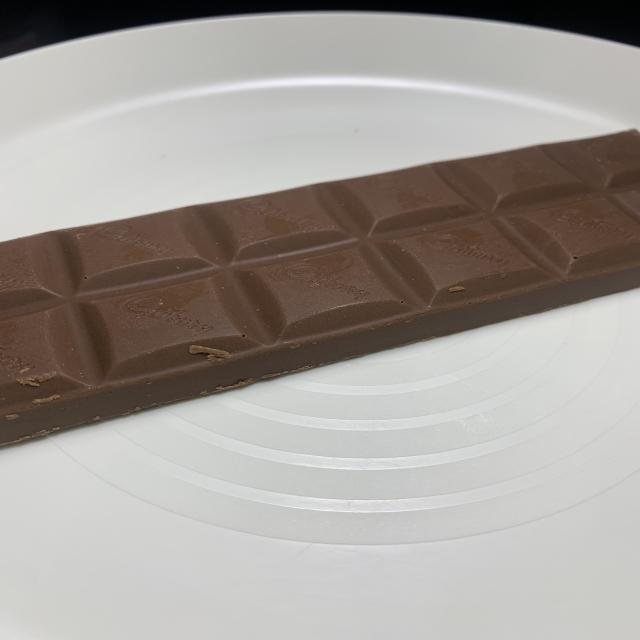Chocolate: (0, 128, 640, 450)
